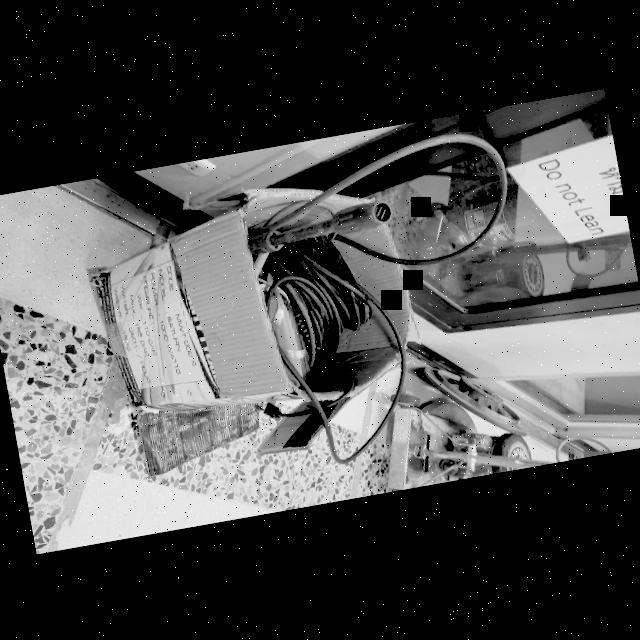cardboard_box: (68, 166, 433, 444)
